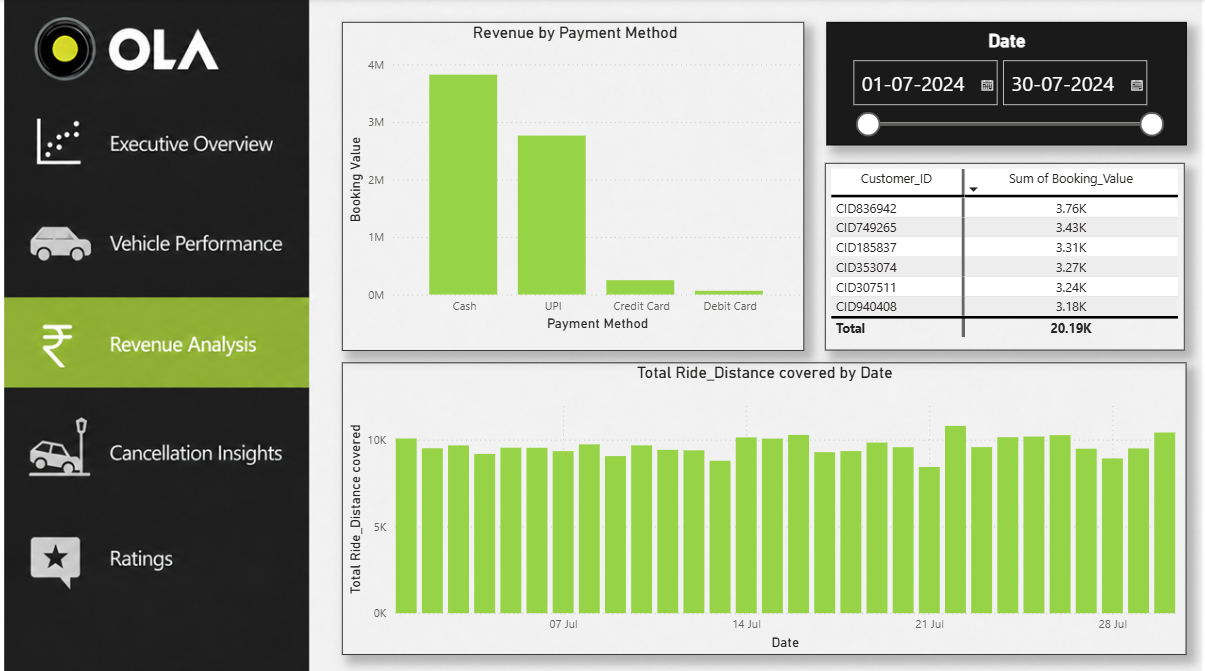

This screenshot's page, from the dashboard's own definition file:
{"tool":"powerbi","page":{"name":"Revenue","canvas":[1280,720],"ordinal":2},"visuals":[{"type":"actionButton","box":[0,555.1,324.5,82.7],"z":0},{"type":"actionButton","box":[0,432.6,324.5,92.3],"z":1000},{"type":"actionButton","box":[0,318.1,324.5,92.3],"z":2000},{"type":"actionButton","box":[0,222.7,324.5,77.9],"z":3000},{"type":"actionButton","box":[0,105,324.5,101.8],"z":4000},{"type":"columnChart","title":"Revenue by Payment Method","fields":{"Category":["Bookings.Payment_Method"],"Y":["Sum(Bookings.Booking_Value)"]},"box":[362.7,25.4,489.9,348.3],"z":5000},{"type":"columnChart","fields":{"Category":["Bookings.Date"],"Y":["Sum(Bookings.Ride_Distance)"]},"box":[362.7,386.5,895.5,310.2],"z":6000},{"type":"slicer","title":"Date","fields":{"Values":["Bookings.Date"]},"box":[876.4,25.4,381.7,130.4],"z":7000},{"type":"tableEx","fields":{"Values":["Bookings.Customer_ID","Sum(Bookings.Booking_Value)"]},"box":[875.6,174.7,381.2,198.6],"z":8000}]}

Visuals, with their boxes in screenshot pixels (x1, y1, x2, y2), scaled from the page's 1280x720 canvas onto the 1205x671 screenshot:
actionButton: 0:517:305:594
actionButton: 0:403:305:489
actionButton: 0:296:305:382
actionButton: 0:208:305:280
actionButton: 0:98:305:193
"Revenue by Payment Method" columnChart: 341:24:803:348
columnChart - Bookings.Date x Sum(Bookings.Ride_Distance): 341:360:1184:649
"Date" slicer: 825:24:1184:145
tableEx - Bookings.Customer_ID x Sum(Bookings.Booking_Value): 824:163:1183:348
